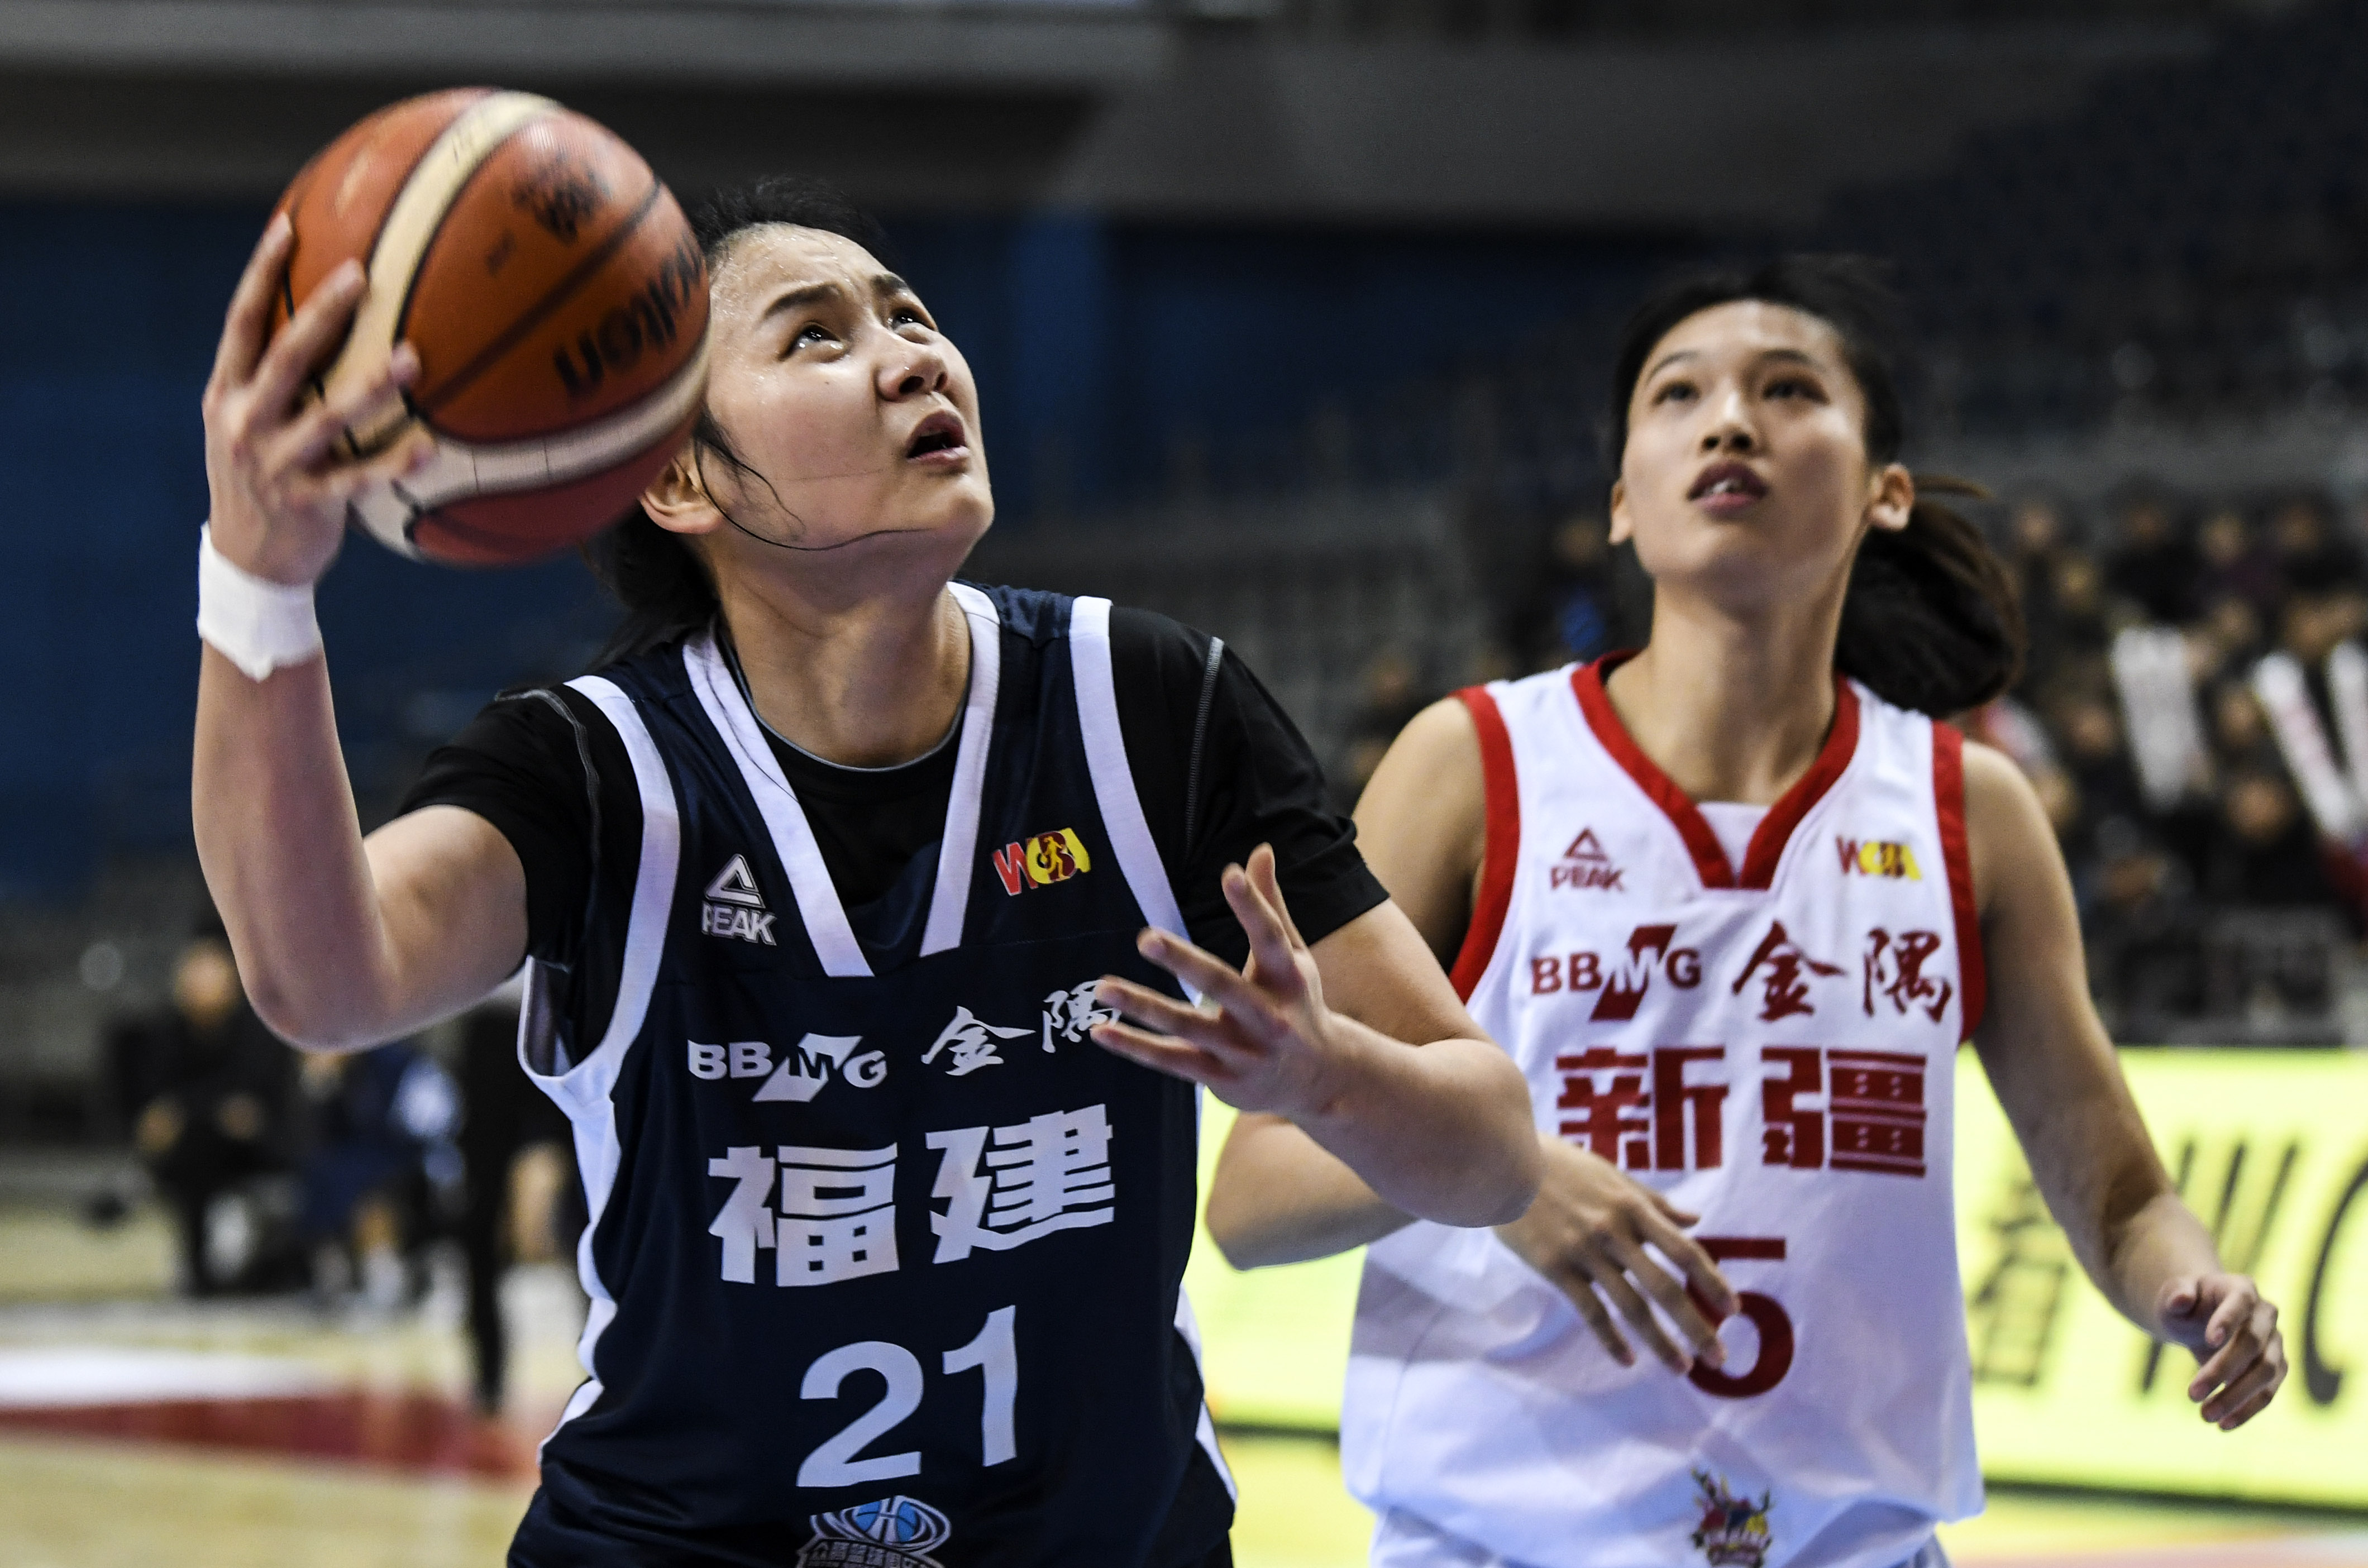ball: (252, 86, 711, 569)
